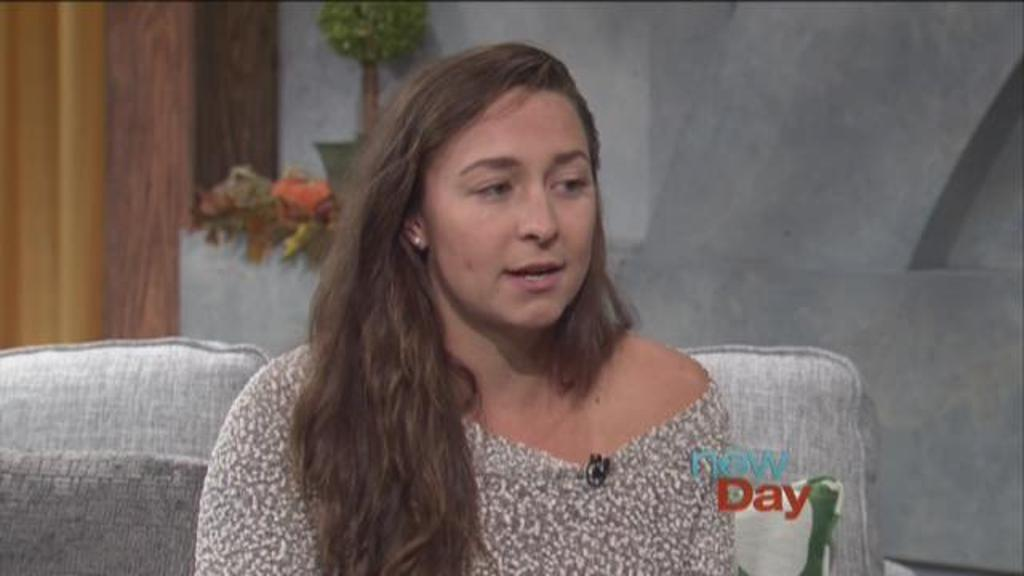face: (412, 104, 602, 330)
